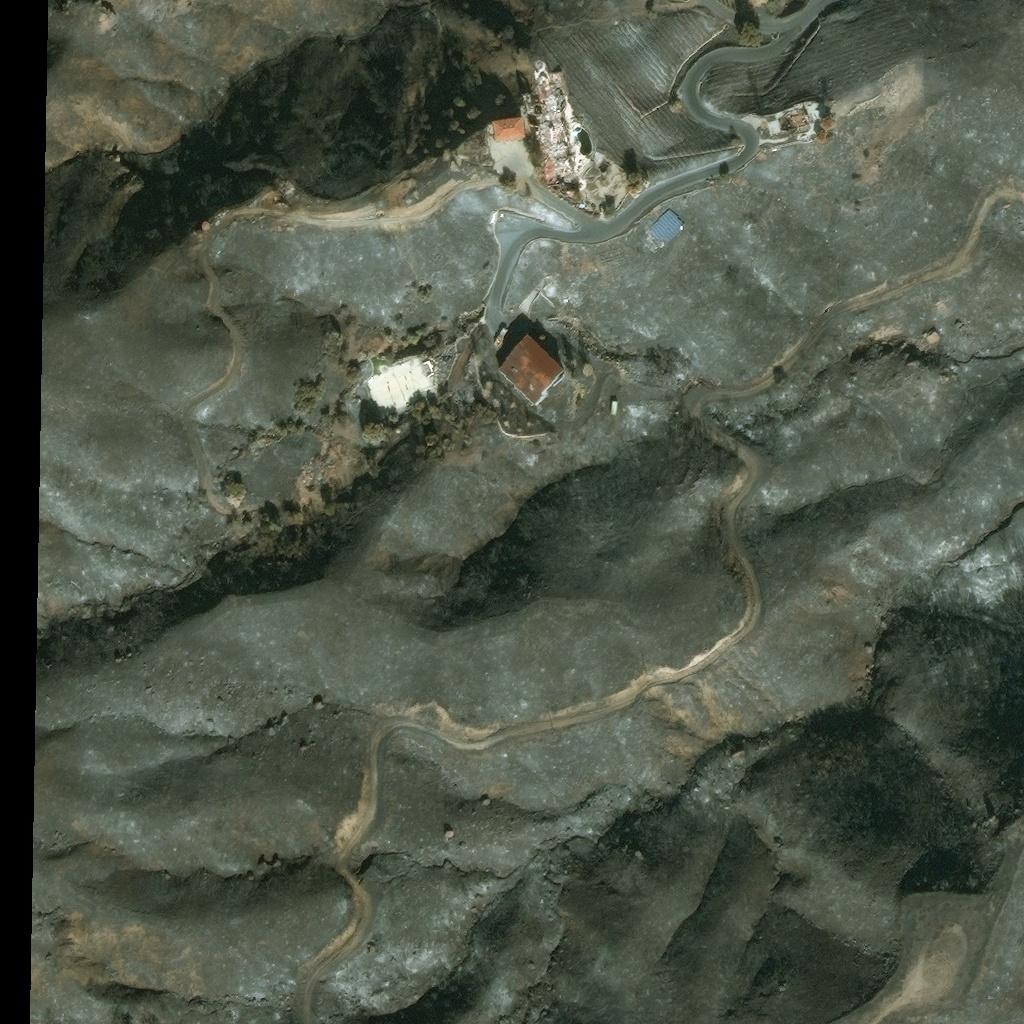0 no-damage: (492, 117, 527, 144)
1 minor-damage: (499, 335, 568, 411), (612, 402, 619, 418)
2 major-damage: (640, 210, 687, 255)
3 destroyed: (365, 356, 436, 419), (528, 110, 576, 187), (534, 82, 565, 111), (778, 111, 811, 134), (520, 95, 533, 108), (201, 223, 212, 235), (196, 232, 204, 242)
